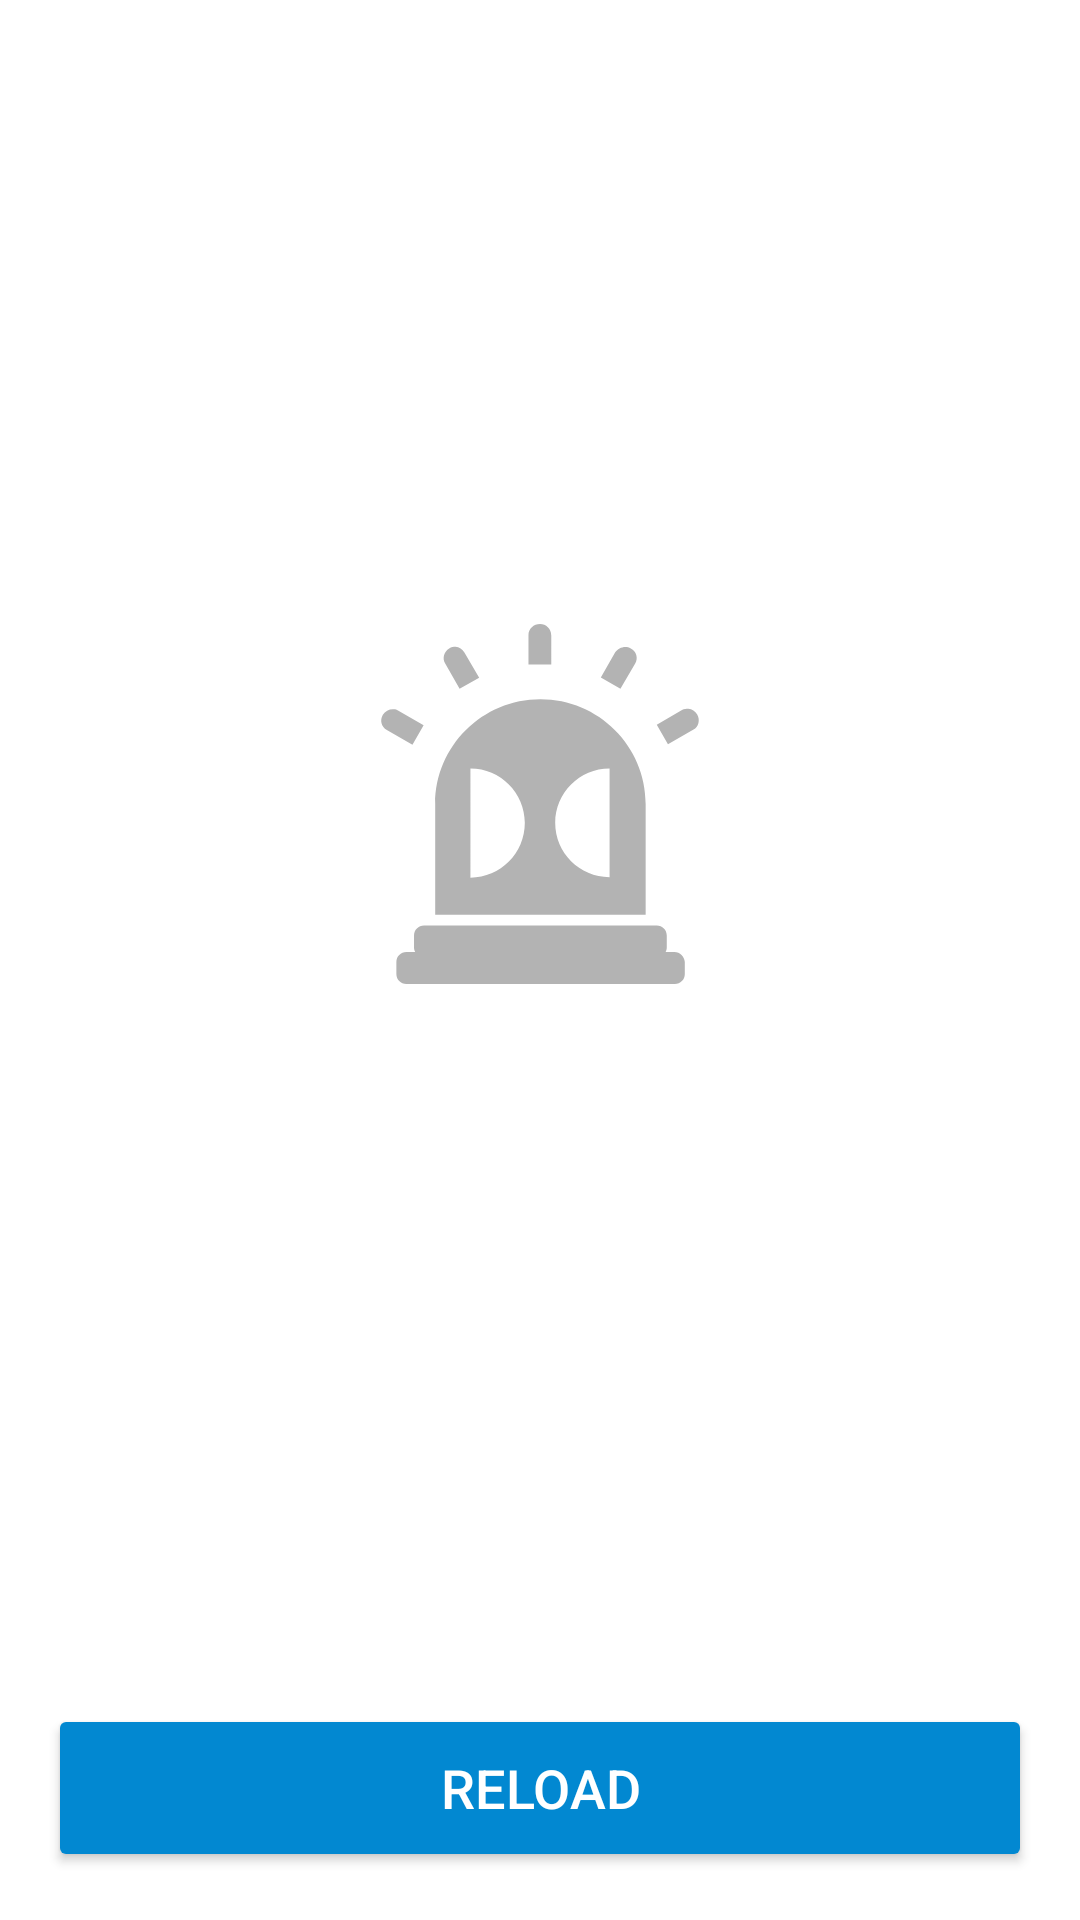

Icon click points for this 1080w x 1920h phone screenshot, format (x=x, y=y):
warn: (x=540, y=804)
